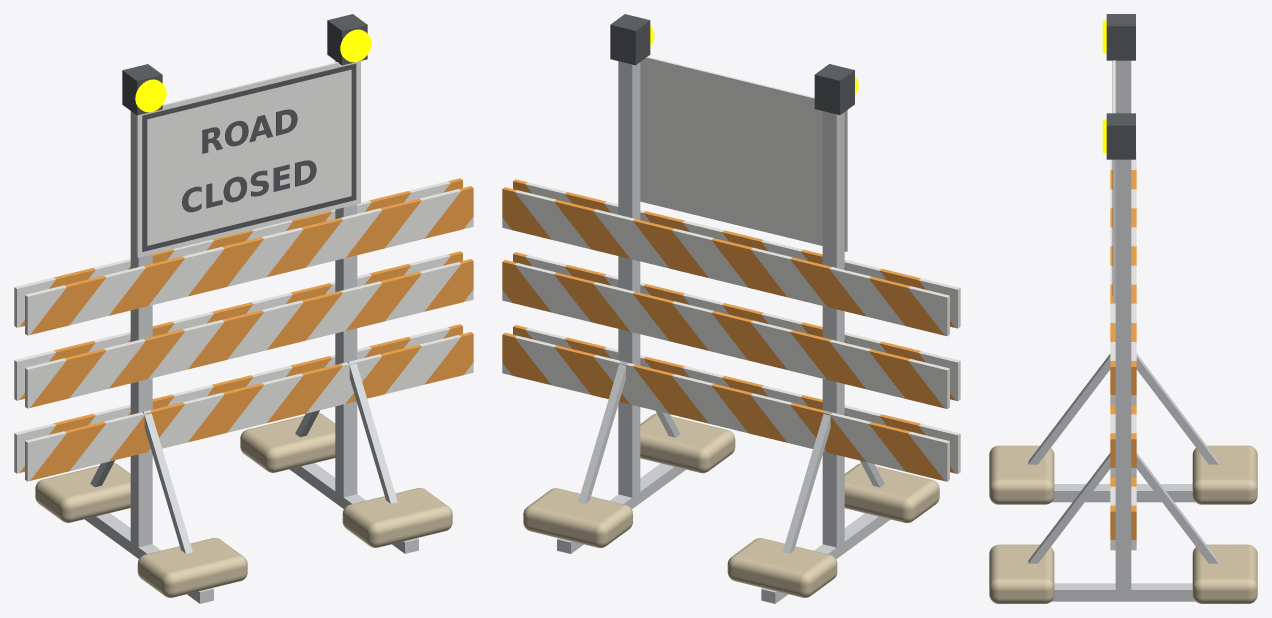
File: Type_III_Barricade_Road_Closed.glb
The picture shows the model from 3 angles, left to right: view 1: azimuth 30°, elevation 25°; view 2: azimuth 150°, elevation 25°; view 3: azimuth 270°, elevation 25°; orthographic projection.
Parts seen in each view (by area): view 1: rail1_front_white, rail1_front_orange, sandbags, posts, sign_legend, lamp_lens; view 2: rail1_front_white, rail1_front_orange, posts, sandbags, sign_legend; view 3: posts, sandbags, sign_legend, rail1_front_white, rail1_front_orange.
Part boxes in pixels (bbox=[...]): rail1_front_white: bbox=[14, 61, 473, 481]; rail1_front_orange: bbox=[19, 178, 473, 480]; sandbags: bbox=[35, 413, 452, 597]; posts: bbox=[85, 61, 418, 603]; sign_legend: bbox=[122, 14, 367, 251]; lamp_lens: bbox=[135, 29, 371, 112]; rail1_front_white: bbox=[502, 56, 960, 481]; rail1_front_orange: bbox=[502, 179, 955, 481]; posts: bbox=[557, 61, 890, 603]; sandbags: bbox=[523, 413, 939, 597]; sign_legend: bbox=[610, 14, 854, 114]; posts: bbox=[1028, 60, 1218, 601]; sandbags: bbox=[989, 445, 1257, 603]; sign_legend: bbox=[1106, 14, 1135, 294]; rail1_front_white: bbox=[1110, 60, 1136, 550]; rail1_front_orange: bbox=[1110, 170, 1136, 539].
Bounding box in the file's own units: 48.77 × 50.4 × 25.6.
